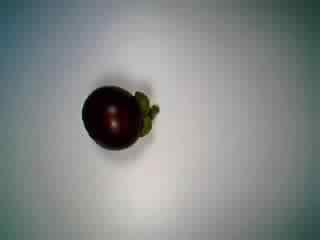mangosteen: (80, 78, 161, 155)
